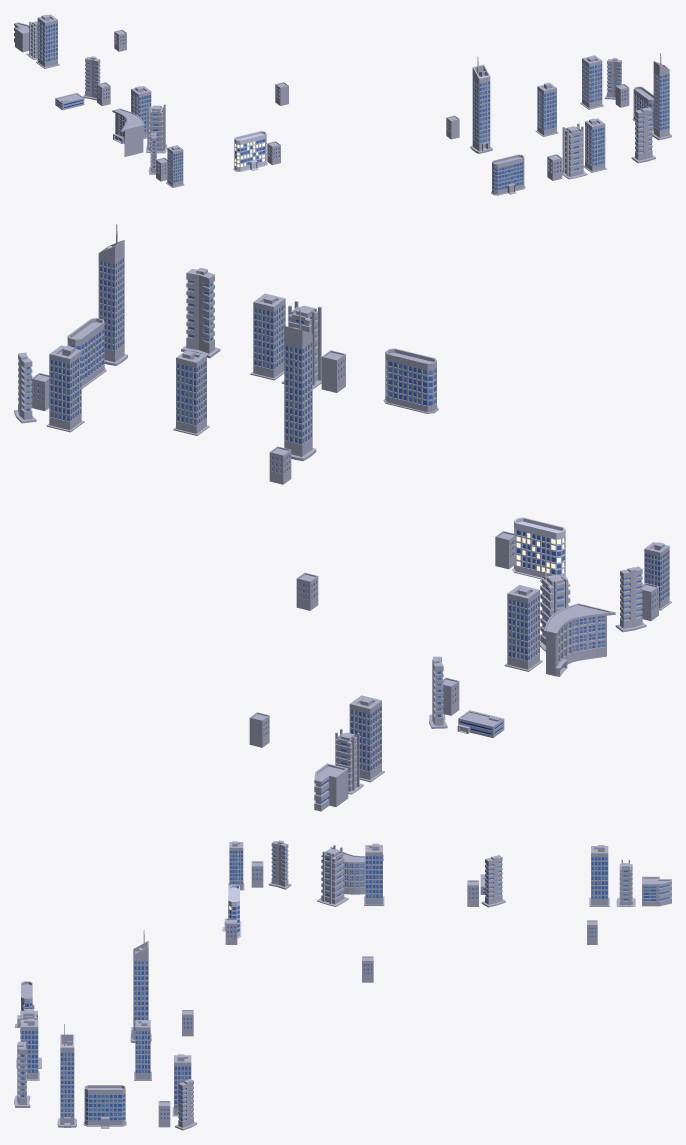
File: Office.glb
3 renders of one model, top to bottom at view 1: azimuth 30°, elevation 25°; view 2: azimuth 150°, elevation 25°; view 3: azimuth 270°, elevation 25°, orthographic. The views are drawn at different scales.
Visible parts, largest first — view 1: Office.005, Office.003, Office.002, Office.012, Hotel, office.014, Office.009, Office.004, Office.006, Office.010, office.016, office.002 (+15 smaller); view 2: Office.005, Hotel, Office.002, Office.003, Office.012, Office.006, Office.008, Office.004, Office.010, office.016, Office.009, Office.007 (+10 smaller); view 3: Office.007, Office.003, Office.005, office.002, Office.008, Office.009, Office.010, Hotel, Office.004, office.001, office.003, office.007 (+6 smaller).
Part boxes in pixels (x1,y1,x2,y2): Office.005: [470, 57, 492, 153]; Office.003: [652, 53, 671, 140]; Office.002: [491, 154, 525, 195]; Office.012: [233, 131, 267, 171]; Hotel: [112, 108, 144, 156]; office.014: [562, 123, 587, 179]; Office.009: [36, 14, 59, 68]; Office.004: [583, 118, 606, 172]; Office.006: [580, 55, 603, 109]; Office.010: [535, 82, 558, 136]; office.016: [631, 107, 655, 163]; office.002: [146, 103, 167, 153]; Office.005: [284, 309, 316, 460]; Hotel: [544, 603, 615, 676]; Office.002: [383, 348, 438, 413]; Office.003: [98, 224, 127, 365]; Office.012: [512, 517, 567, 579]; Office.006: [46, 345, 84, 432]; Office.008: [504, 585, 542, 671]; Office.004: [250, 293, 285, 380]; Office.010: [173, 350, 209, 435]; office.016: [181, 268, 220, 358]; Office.009: [349, 695, 384, 782]; Office.007: [67, 318, 106, 388]; Office.007: [83, 1085, 126, 1128]; Office.003: [57, 1024, 76, 1127]; Office.005: [130, 930, 151, 1042]; office.002: [317, 845, 348, 906]; Office.008: [364, 843, 384, 905]; Office.009: [589, 845, 609, 906]; Office.010: [134, 1020, 151, 1080]; Hotel: [330, 846, 383, 894]; Office.004: [21, 1018, 39, 1080]; office.001: [481, 855, 505, 907]; office.003: [642, 876, 671, 906]; office.007: [268, 840, 291, 889].
Size of the model in its own units: 102 by 20.56 by 113.
